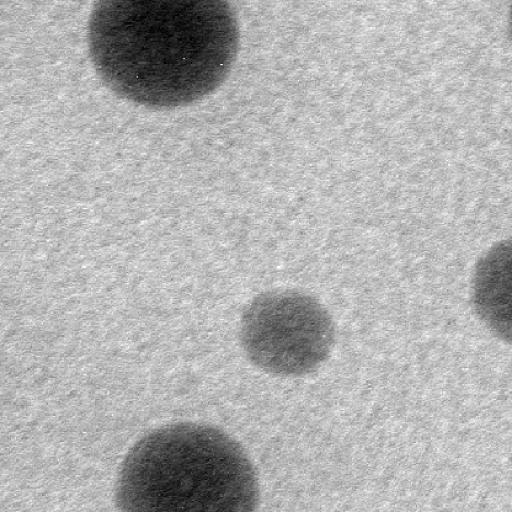Nanoparticles: (84, 0, 244, 114), (111, 413, 268, 512), (237, 287, 337, 382), (470, 236, 512, 358)
